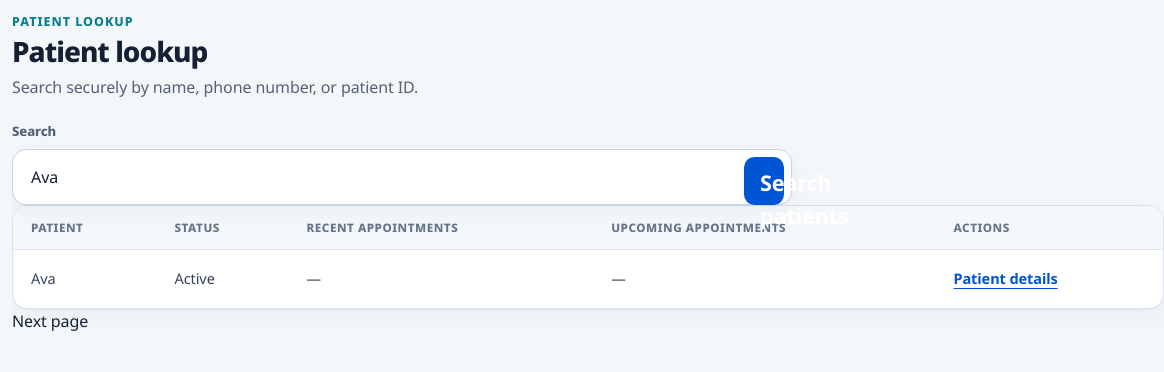
Test: patient pagination › keeps current results and announces pagination failure
The width and height of the screenshot is (1164, 372).
Click the button "Next page": (50, 321) [12, 309, 88, 333]
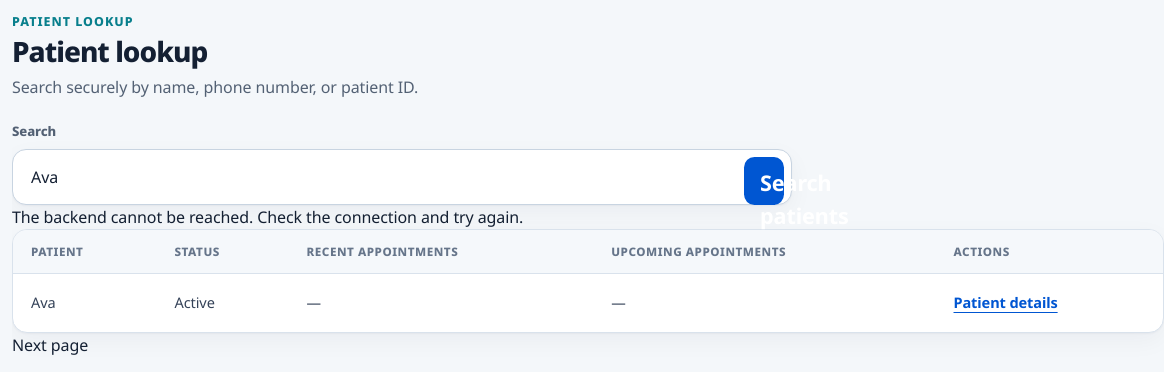
Expected: the text "Ava" is shown, [13, 274, 156, 332]
Expected: the message reads "The backend cannot be reached. Check the connection and try again.", [12, 206, 523, 228]
